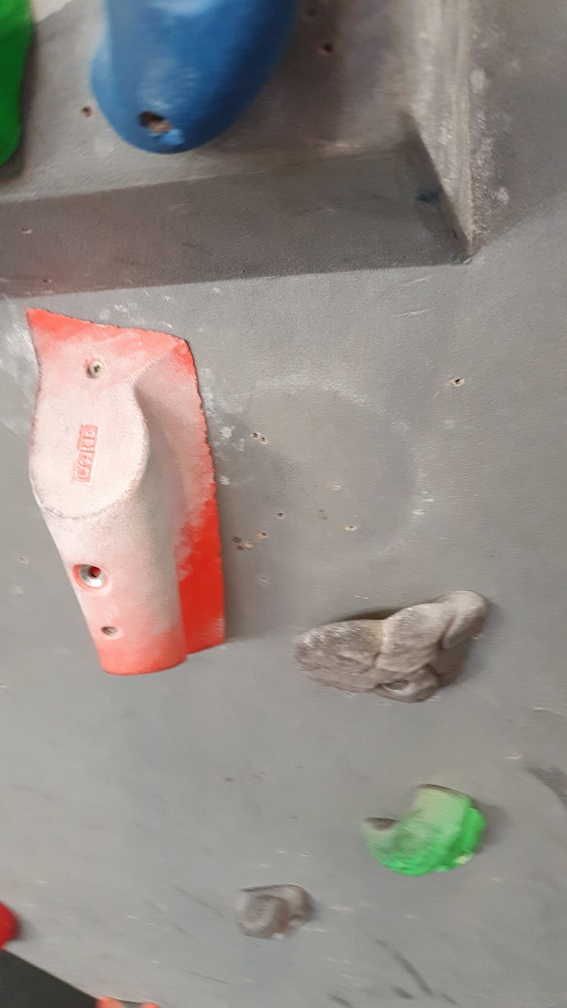Jug: (294, 588, 491, 703), (360, 780, 490, 877)
Pinch: (21, 306, 230, 677)
